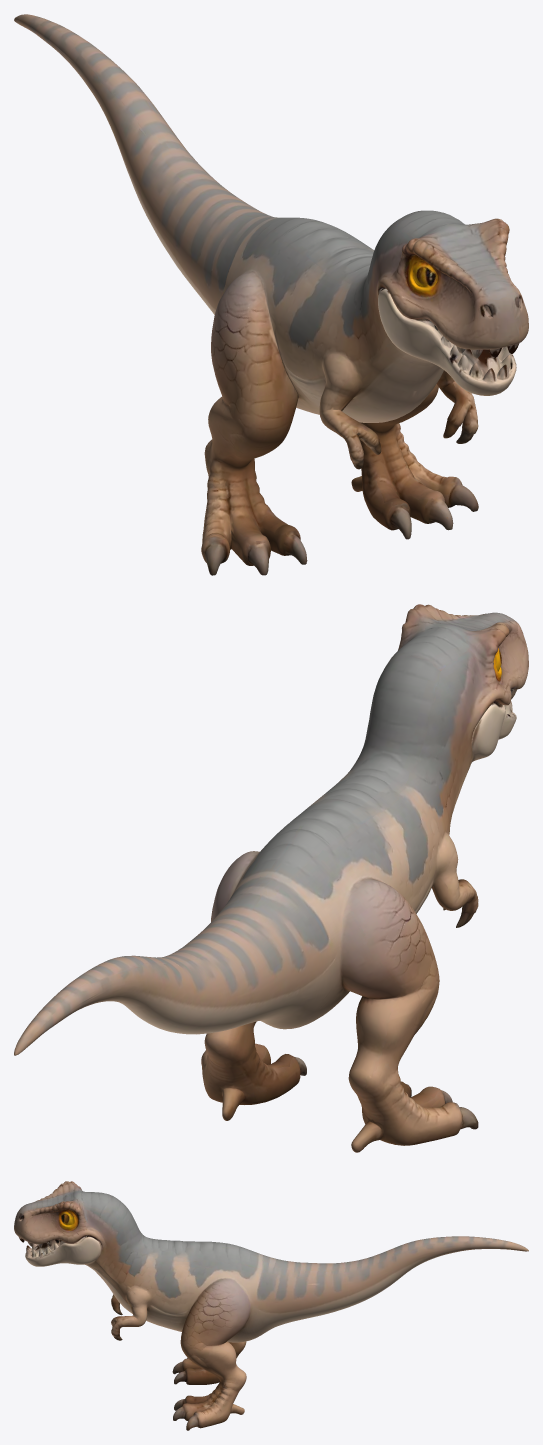
File: trex.glb
3 views of the same model, one above another, from view 1: azimuth 30°, elevation 25°; view 2: azimuth 150°, elevation 25°; view 3: azimuth 270°, elevation 25° (orthographic). The views are drawn at different scales.
Parts seen in each view (by area): view 1: node_0; view 2: node_0; view 3: node_0.
Part boxes in pixels (bbox=[...]): node_0: bbox=[14, 14, 528, 575]; node_0: bbox=[14, 604, 528, 1152]; node_0: bbox=[14, 1181, 528, 1430].
Size of the model in its own units: 0.3571 by 0.5071 by 1.15.
Materials: 1 (1 with a texture image).
